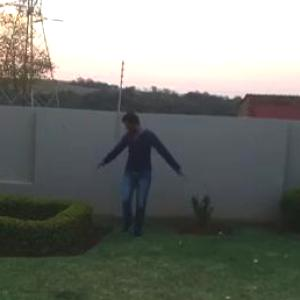land: (87, 107, 193, 253)
